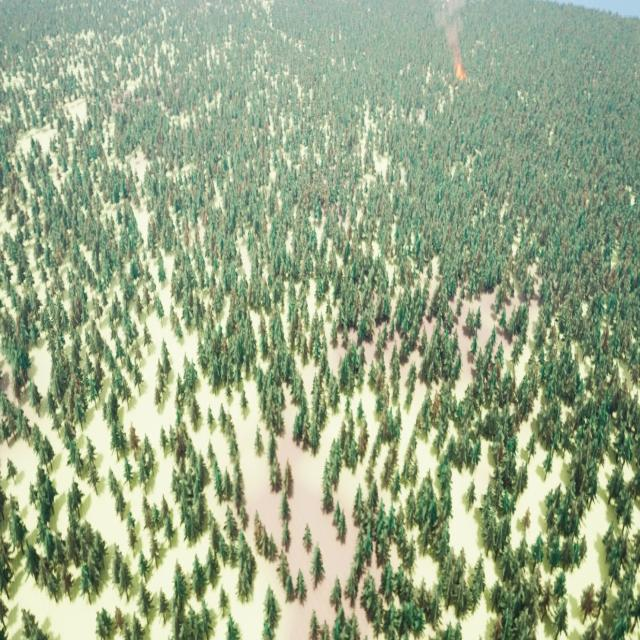fire: (452, 58, 467, 80)
smoke: (434, 0, 468, 63)
